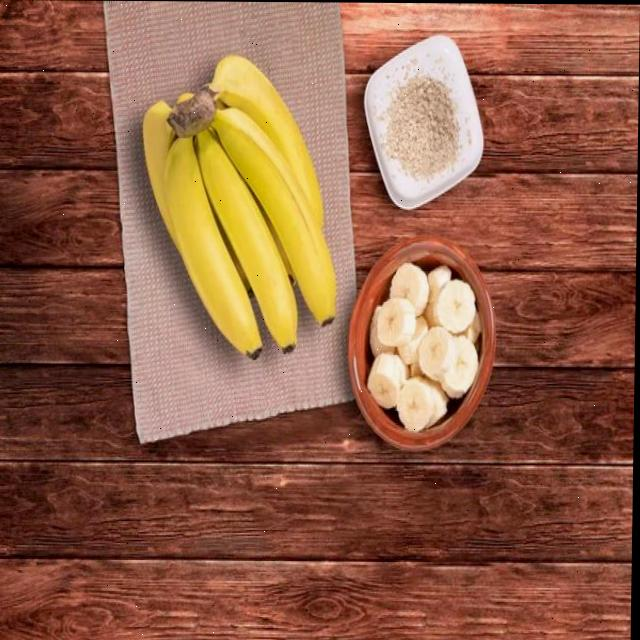banana: (137, 46, 340, 364)
